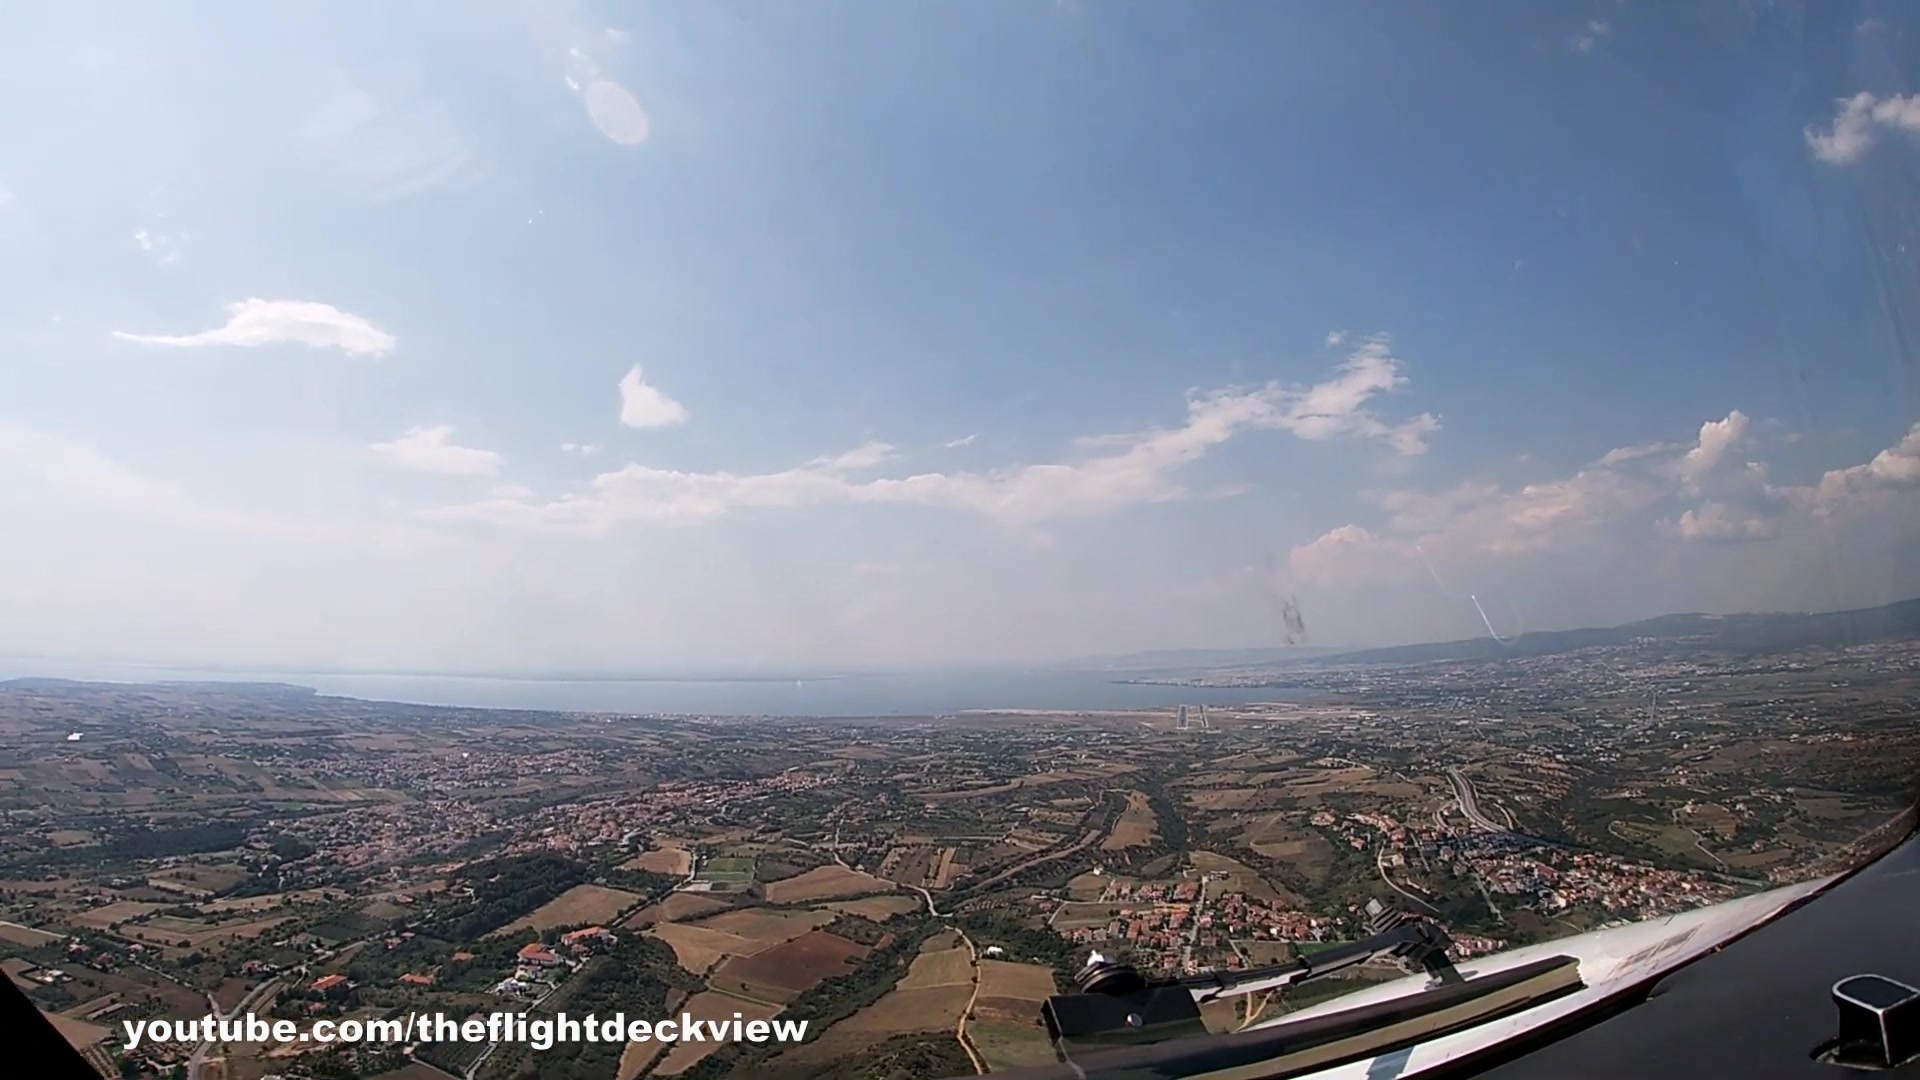runway: (1175, 703, 1189, 731)
